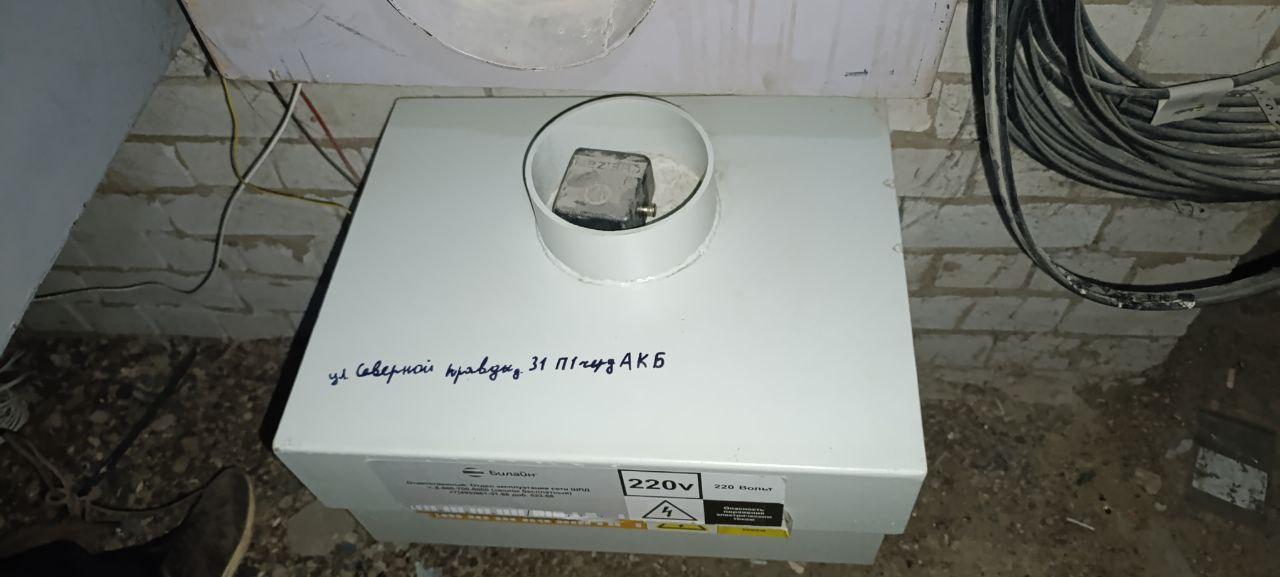shta-ps: (265, 89, 936, 569)
